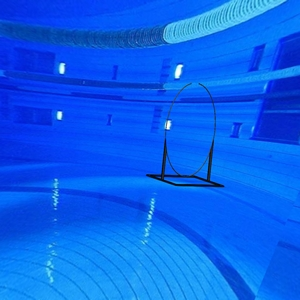circle: (145, 81, 227, 190)
